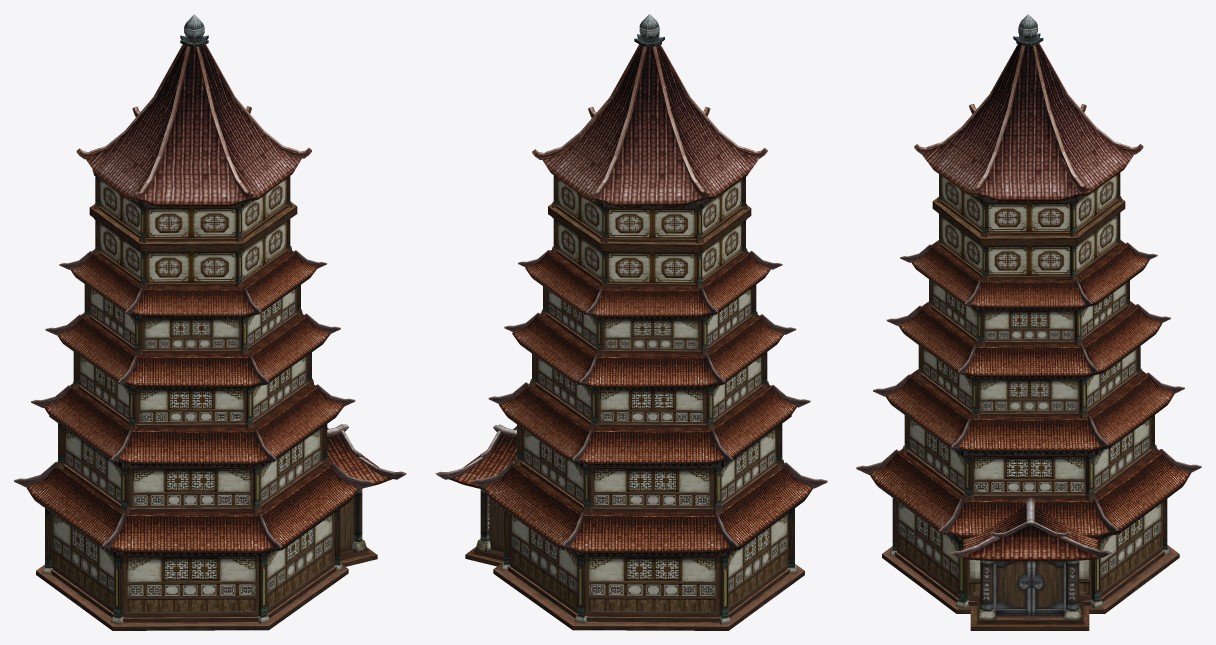
The model's file is a1-013-6tower.fbx.
3 views of the same model, side by side, from view 1: azimuth 30°, elevation 25°; view 2: azimuth 150°, elevation 25°; view 3: azimuth 270°, elevation 25° (orthographic). The views are drawn at different scales.
Visible parts, largest first — view 1: b1-013-6tower-01; view 2: b1-013-6tower-01; view 3: b1-013-6tower-01.
Part boxes in pixels (x1,y1,x2,y2): b1-013-6tower-01: [14, 14, 406, 630]; b1-013-6tower-01: [435, 14, 827, 630]; b1-013-6tower-01: [856, 14, 1201, 630].
Size of the model in its own units: 15.6 by 27.14 by 15.61.
